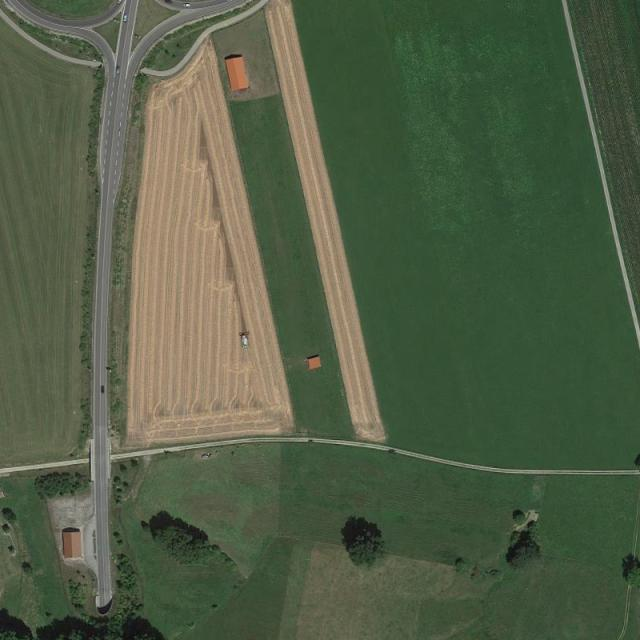vehicle: (123, 14, 128, 22), (116, 67, 121, 74), (166, 1, 173, 5), (183, 4, 190, 8), (102, 386, 105, 394), (117, 1, 122, 5)
